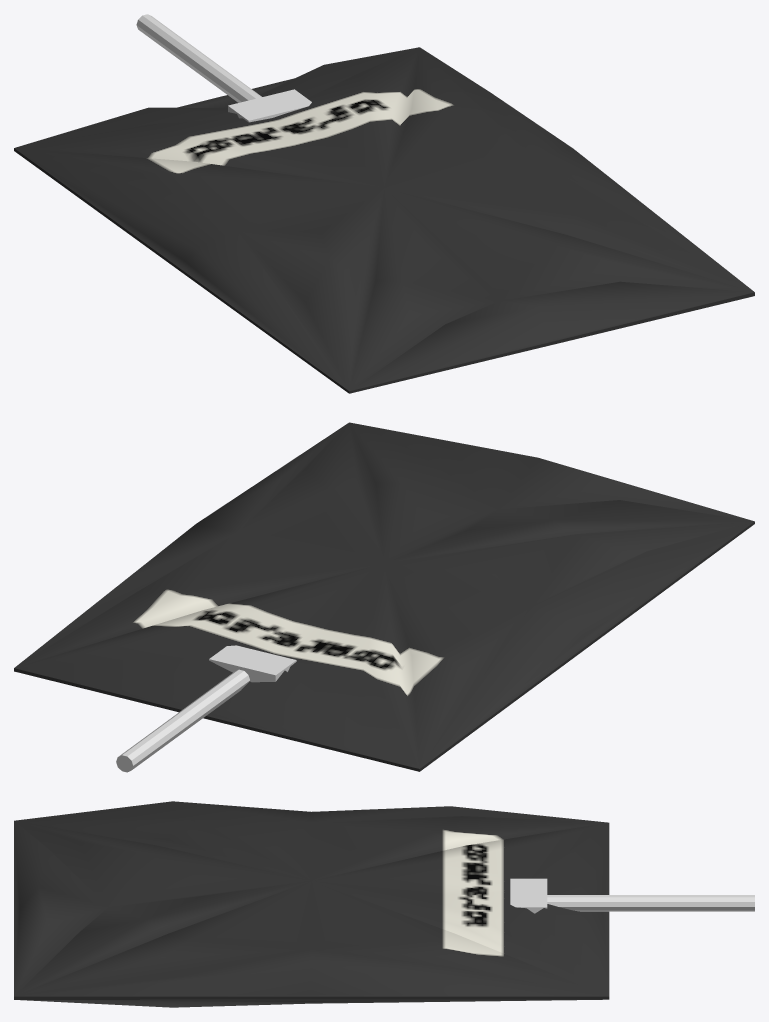
File: Model_FoodPack.fbx
3 views of the same model, one above another, from view 1: azimuth 30°, elevation 25°; view 2: azimuth 150°, elevation 25°; view 3: azimuth 270°, elevation 25° (orthographic). The views are drawn at different scales.
Visible parts, largest first — view 1: polySurface1; view 2: polySurface1; view 3: polySurface1.
Boxes of the visible parts, bbox=[...] form: polySurface1: bbox=[14, 14, 754, 393]; polySurface1: bbox=[14, 422, 754, 772]; polySurface1: bbox=[14, 801, 754, 1007].
Bounding box in the file's own units: 1.11 × 0.1864 × 1.97.
